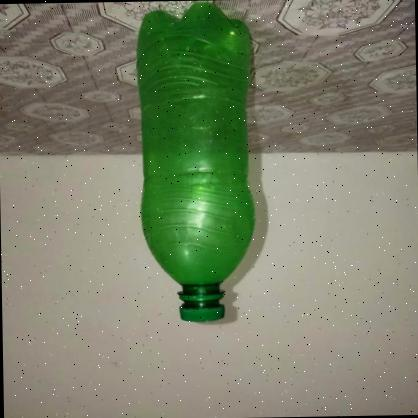bottle: (133, 0, 259, 322)
cap: (174, 292, 228, 320)
